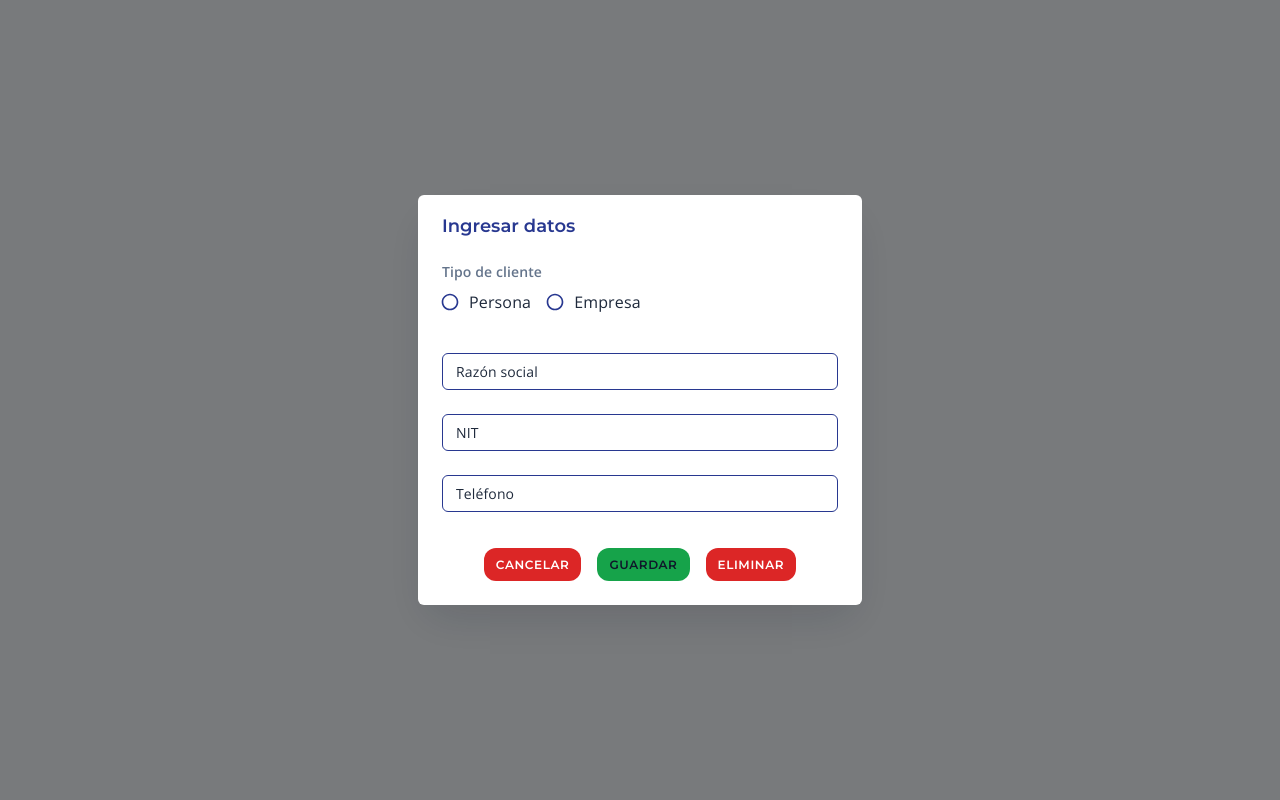
Test: DatosClienteModal — lo que no deja pasar › sin datos, no guarda y marca lo que falta
Click the button "Guardar" at [643, 565], box x1=597 y1=548 x2=690 y2=581
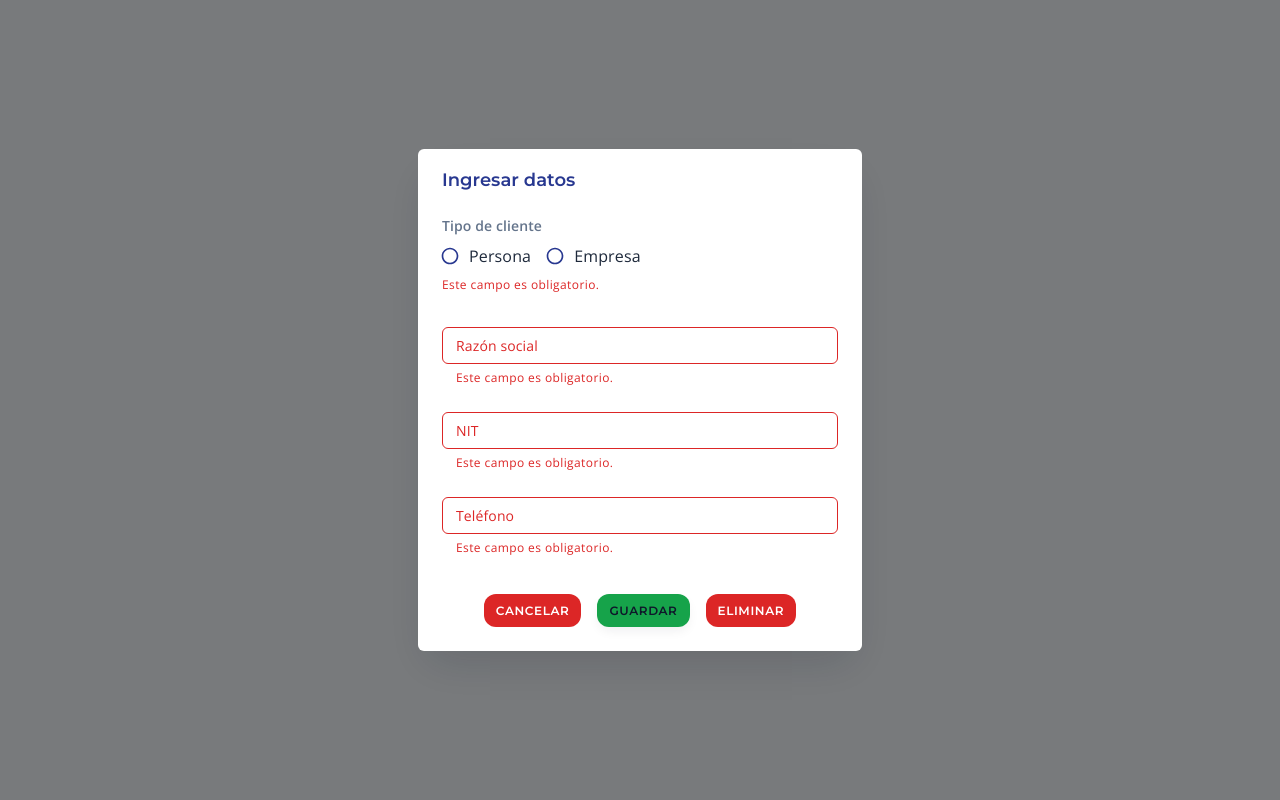
expect the text "Este campo es obligatorio." below "Persona" is shown: met, box x1=442 y1=276 x2=599 y2=293
